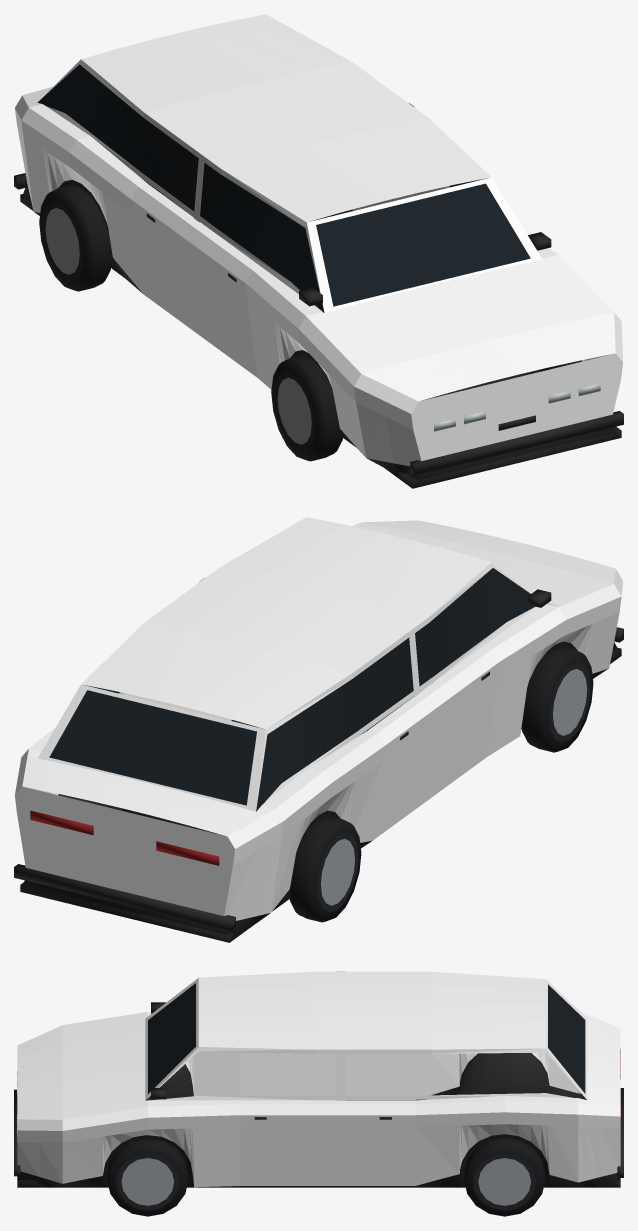
File: ostwerk_pedestal.glb
3 renders of one model, top to bottom at view 1: azimuth 30°, elevation 25°; view 2: azimuth 150°, elevation 25°; view 3: azimuth 270°, elevation 25°, orthographic. The views are drawn at different scales.
Visible parts, largest first — view 1: Body_Paint, Body_Details, Mount_RearLeft_Wheel_Details, Mount_FrontLeft_Wheel_Details; view 2: Body_Paint, Body_Details, Mount_RearLeft_Wheel_Details, Mount_FrontLeft_Wheel_Details; view 3: Body_Paint, Body_Details, Mount_RearRight_Wheel_Details, Mount_FrontRight_Wheel_Details.
Part boxes in pixels (x1=…): Body_Paint: x1=15, y1=14, x2=623, y2=466; Body_Details: x1=14, y1=64, x2=623, y2=488; Mount_RearLeft_Wheel_Details: x1=39, y1=185, x2=112, y2=291; Mount_FrontLeft_Wheel_Details: x1=271, y1=355, x2=343, y2=461; Body_Paint: x1=15, y1=517, x2=622, y2=920; Body_Details: x1=14, y1=568, x2=623, y2=942; Mount_RearLeft_Wheel_Details: x1=288, y1=815, x2=361, y2=922; Mount_FrontLeft_Wheel_Details: x1=521, y1=646, x2=593, y2=752; Body_Paint: x1=17, y1=971, x2=620, y2=1187; Body_Details: x1=14, y1=983, x2=623, y2=1187; Mount_RearRight_Wheel_Details: x1=464, y1=1137, x2=545, y2=1216; Mount_FrontRight_Wheel_Details: x1=107, y1=1138, x2=188, y2=1216.
Bounding box in the file's own units: 2.01 × 1.44 × 5.03.
2 materials, 1 textured.
